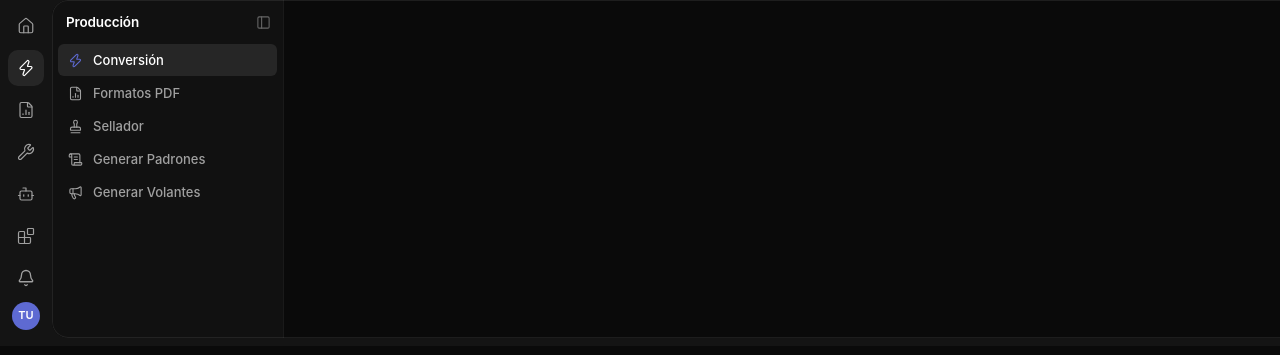
Test: Sidebar › renders the panel toggle with the expected label and tooltip
Focus the button named "Alternar barra lateral" at (263, 22), box [249, 8, 277, 36]
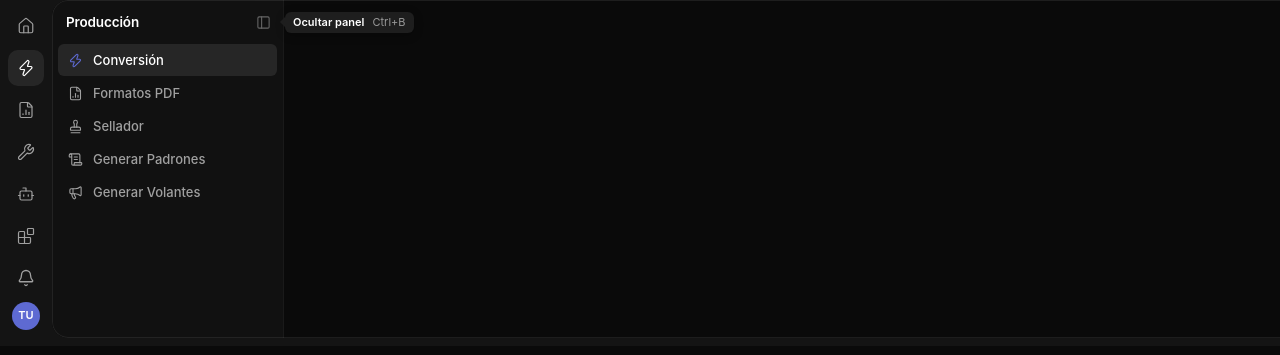
Check: the tooltip shows "Ocultar panel", box [293, 14, 364, 28]
